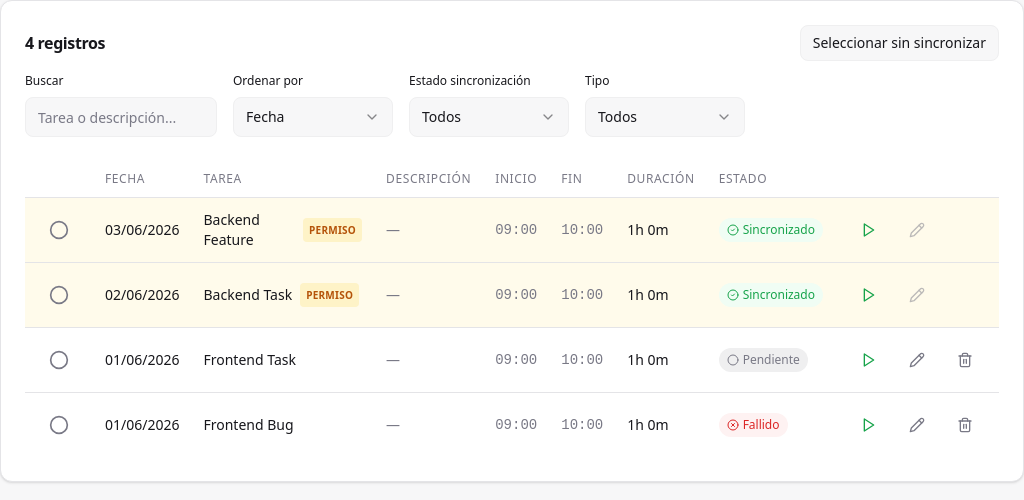
Test: TimeEntryViewSwitcher › selection controls › Tipo filter (recoverable) › renders Tipo filter with three options: Todos, Normal, Permiso
Expected: the text "Tipo" is shown, [585, 72, 609, 89]
// Open the dropdown
Click the dropdown labelled "Todos" below "Tipo" at point(665, 117), box [585, 97, 745, 137]
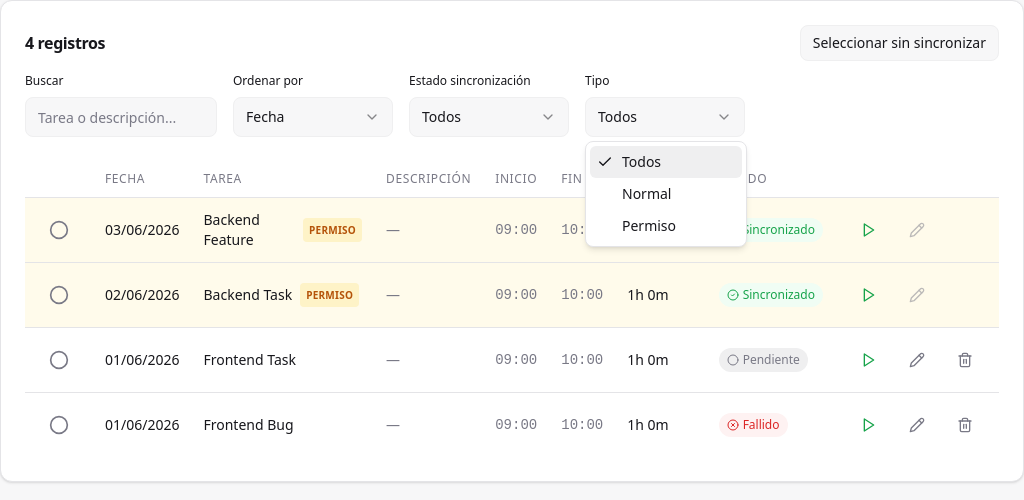
Expected: the option "Todos" is shown, [590, 146, 742, 178]
Expected: the option "Normal" is shown, [622, 184, 672, 203]
Expected: the option "Permiso" is shown, [622, 216, 676, 235]
